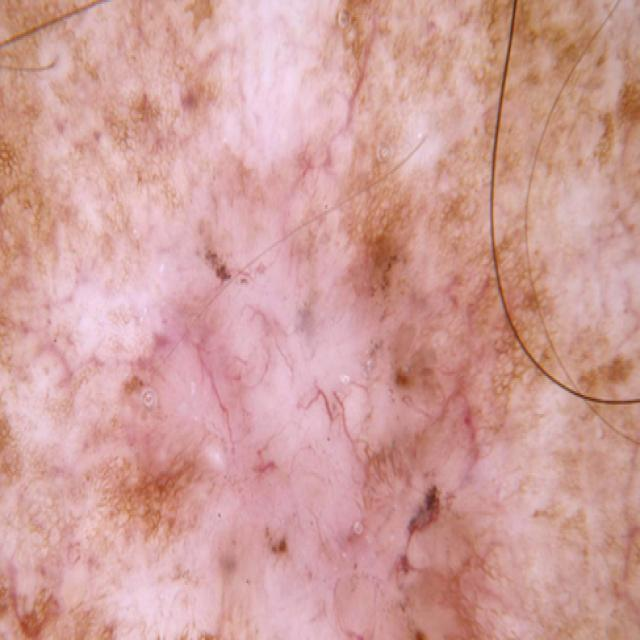Carcinoma: (309, 323, 537, 640), (99, 233, 271, 623)
